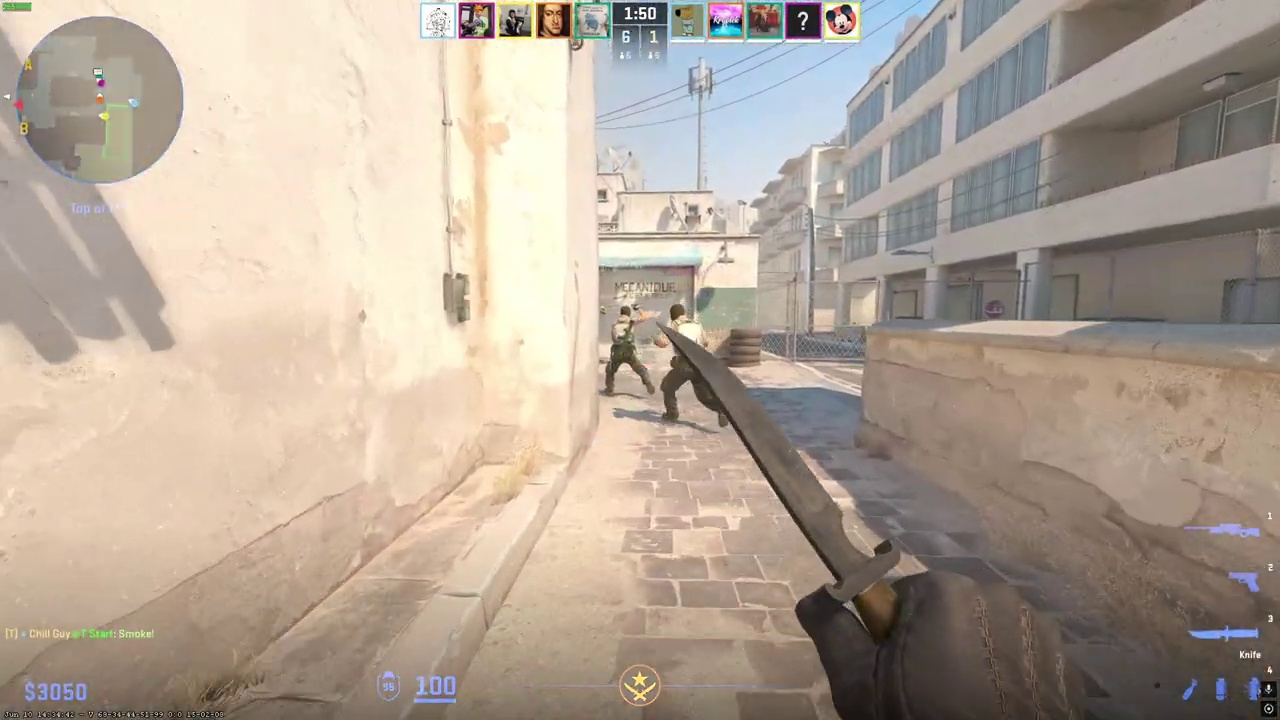Terrorist: (652, 304, 723, 428), (601, 305, 653, 395)
